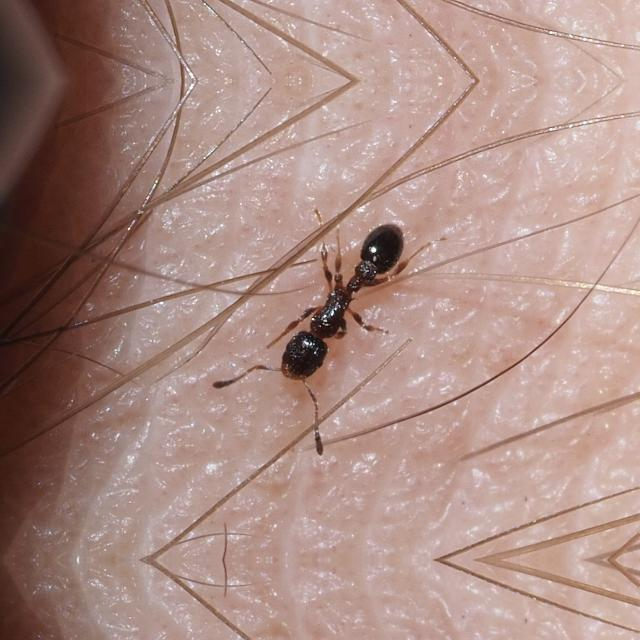Temnothorax: (228, 192, 452, 436)
